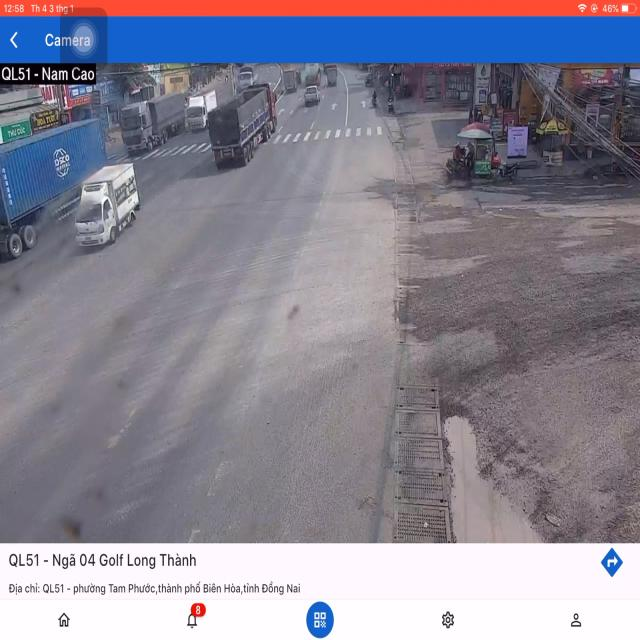truck: (205, 82, 275, 168), (78, 164, 137, 249), (122, 98, 185, 151), (188, 94, 215, 134)
